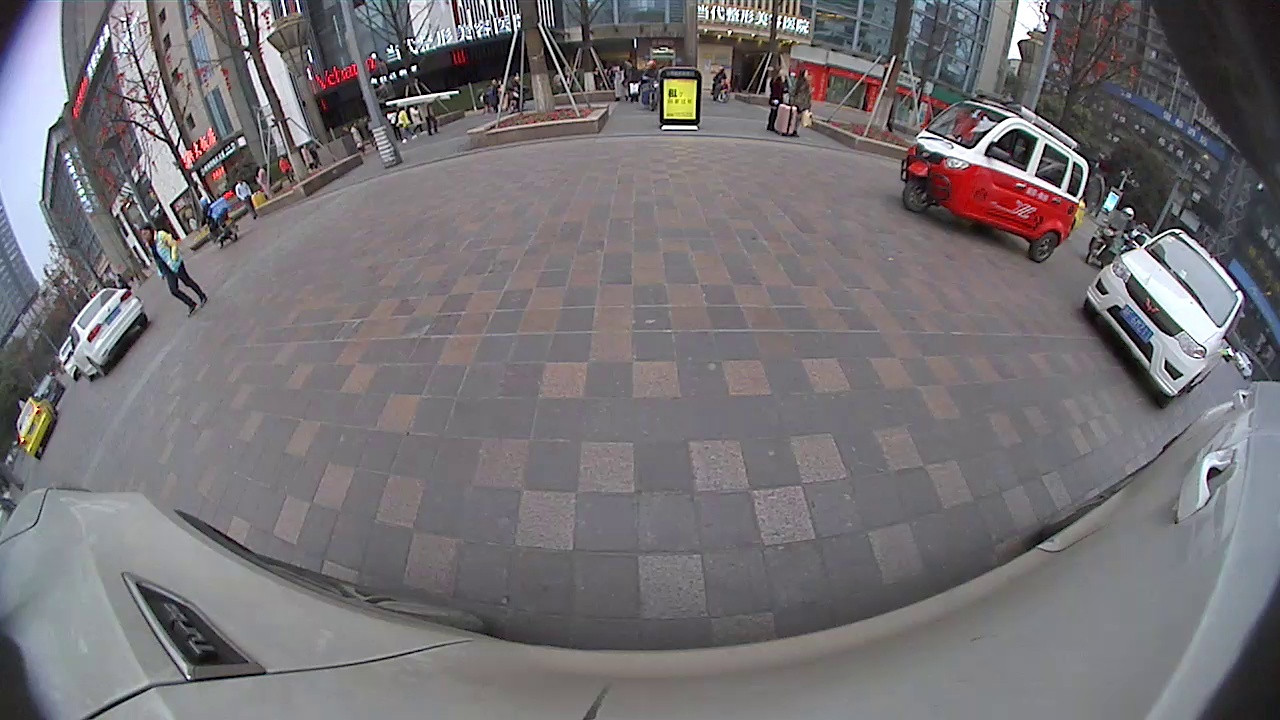car: (1081, 225, 1247, 413), (66, 285, 152, 384), (14, 393, 61, 462)
front: (900, 175, 937, 217)
person: (138, 223, 167, 315), (795, 66, 813, 135), (768, 66, 784, 135)
rear: (1028, 227, 1062, 266)
rider: (898, 87, 1094, 266), (197, 197, 240, 248)
